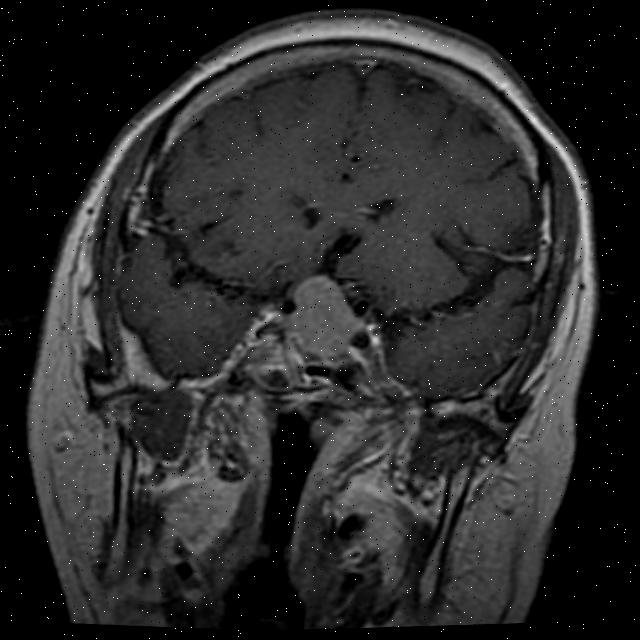Pituitary: (280, 268, 372, 359)
